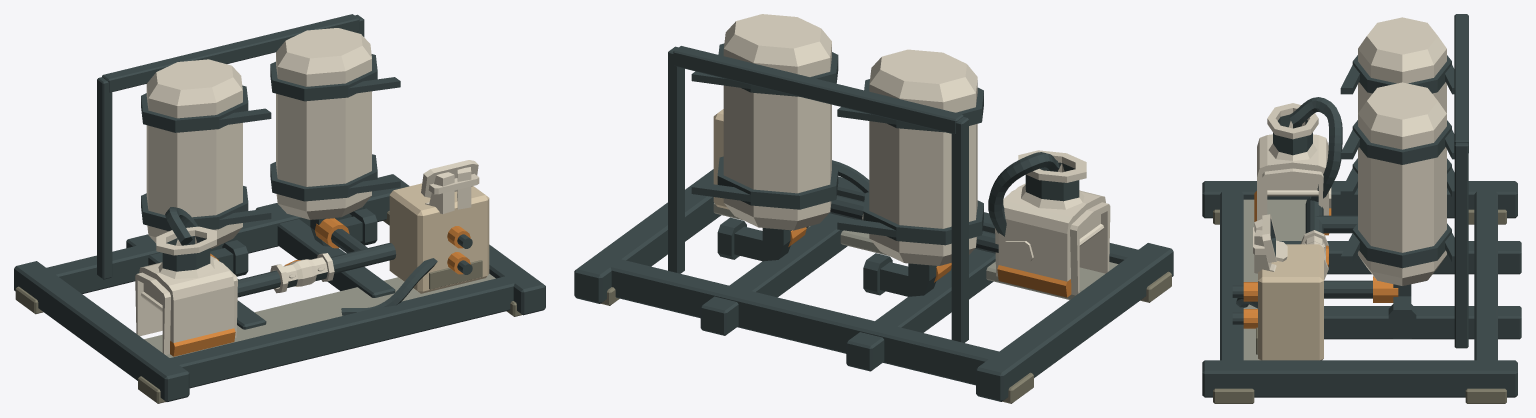
File: utility_fuel_01.glb
3 views of the same model, side by side, from view 1: azimuth 30°, elevation 25°; view 2: azimuth 150°, elevation 25°; view 3: azimuth 270°, elevation 25° (orthographic). The views are drawn at different scales.
Visible parts, largest first — view 1: utility_fuel_01; view 2: utility_fuel_01; view 3: utility_fuel_01.
Boxes of the visible parts, bbox=[...] form: utility_fuel_01: bbox=[14, 14, 545, 403]; utility_fuel_01: bbox=[574, 14, 1173, 403]; utility_fuel_01: bbox=[1202, 14, 1521, 403].
Bounding box in the file's own units: 4.68 × 2.67 × 3.24.
